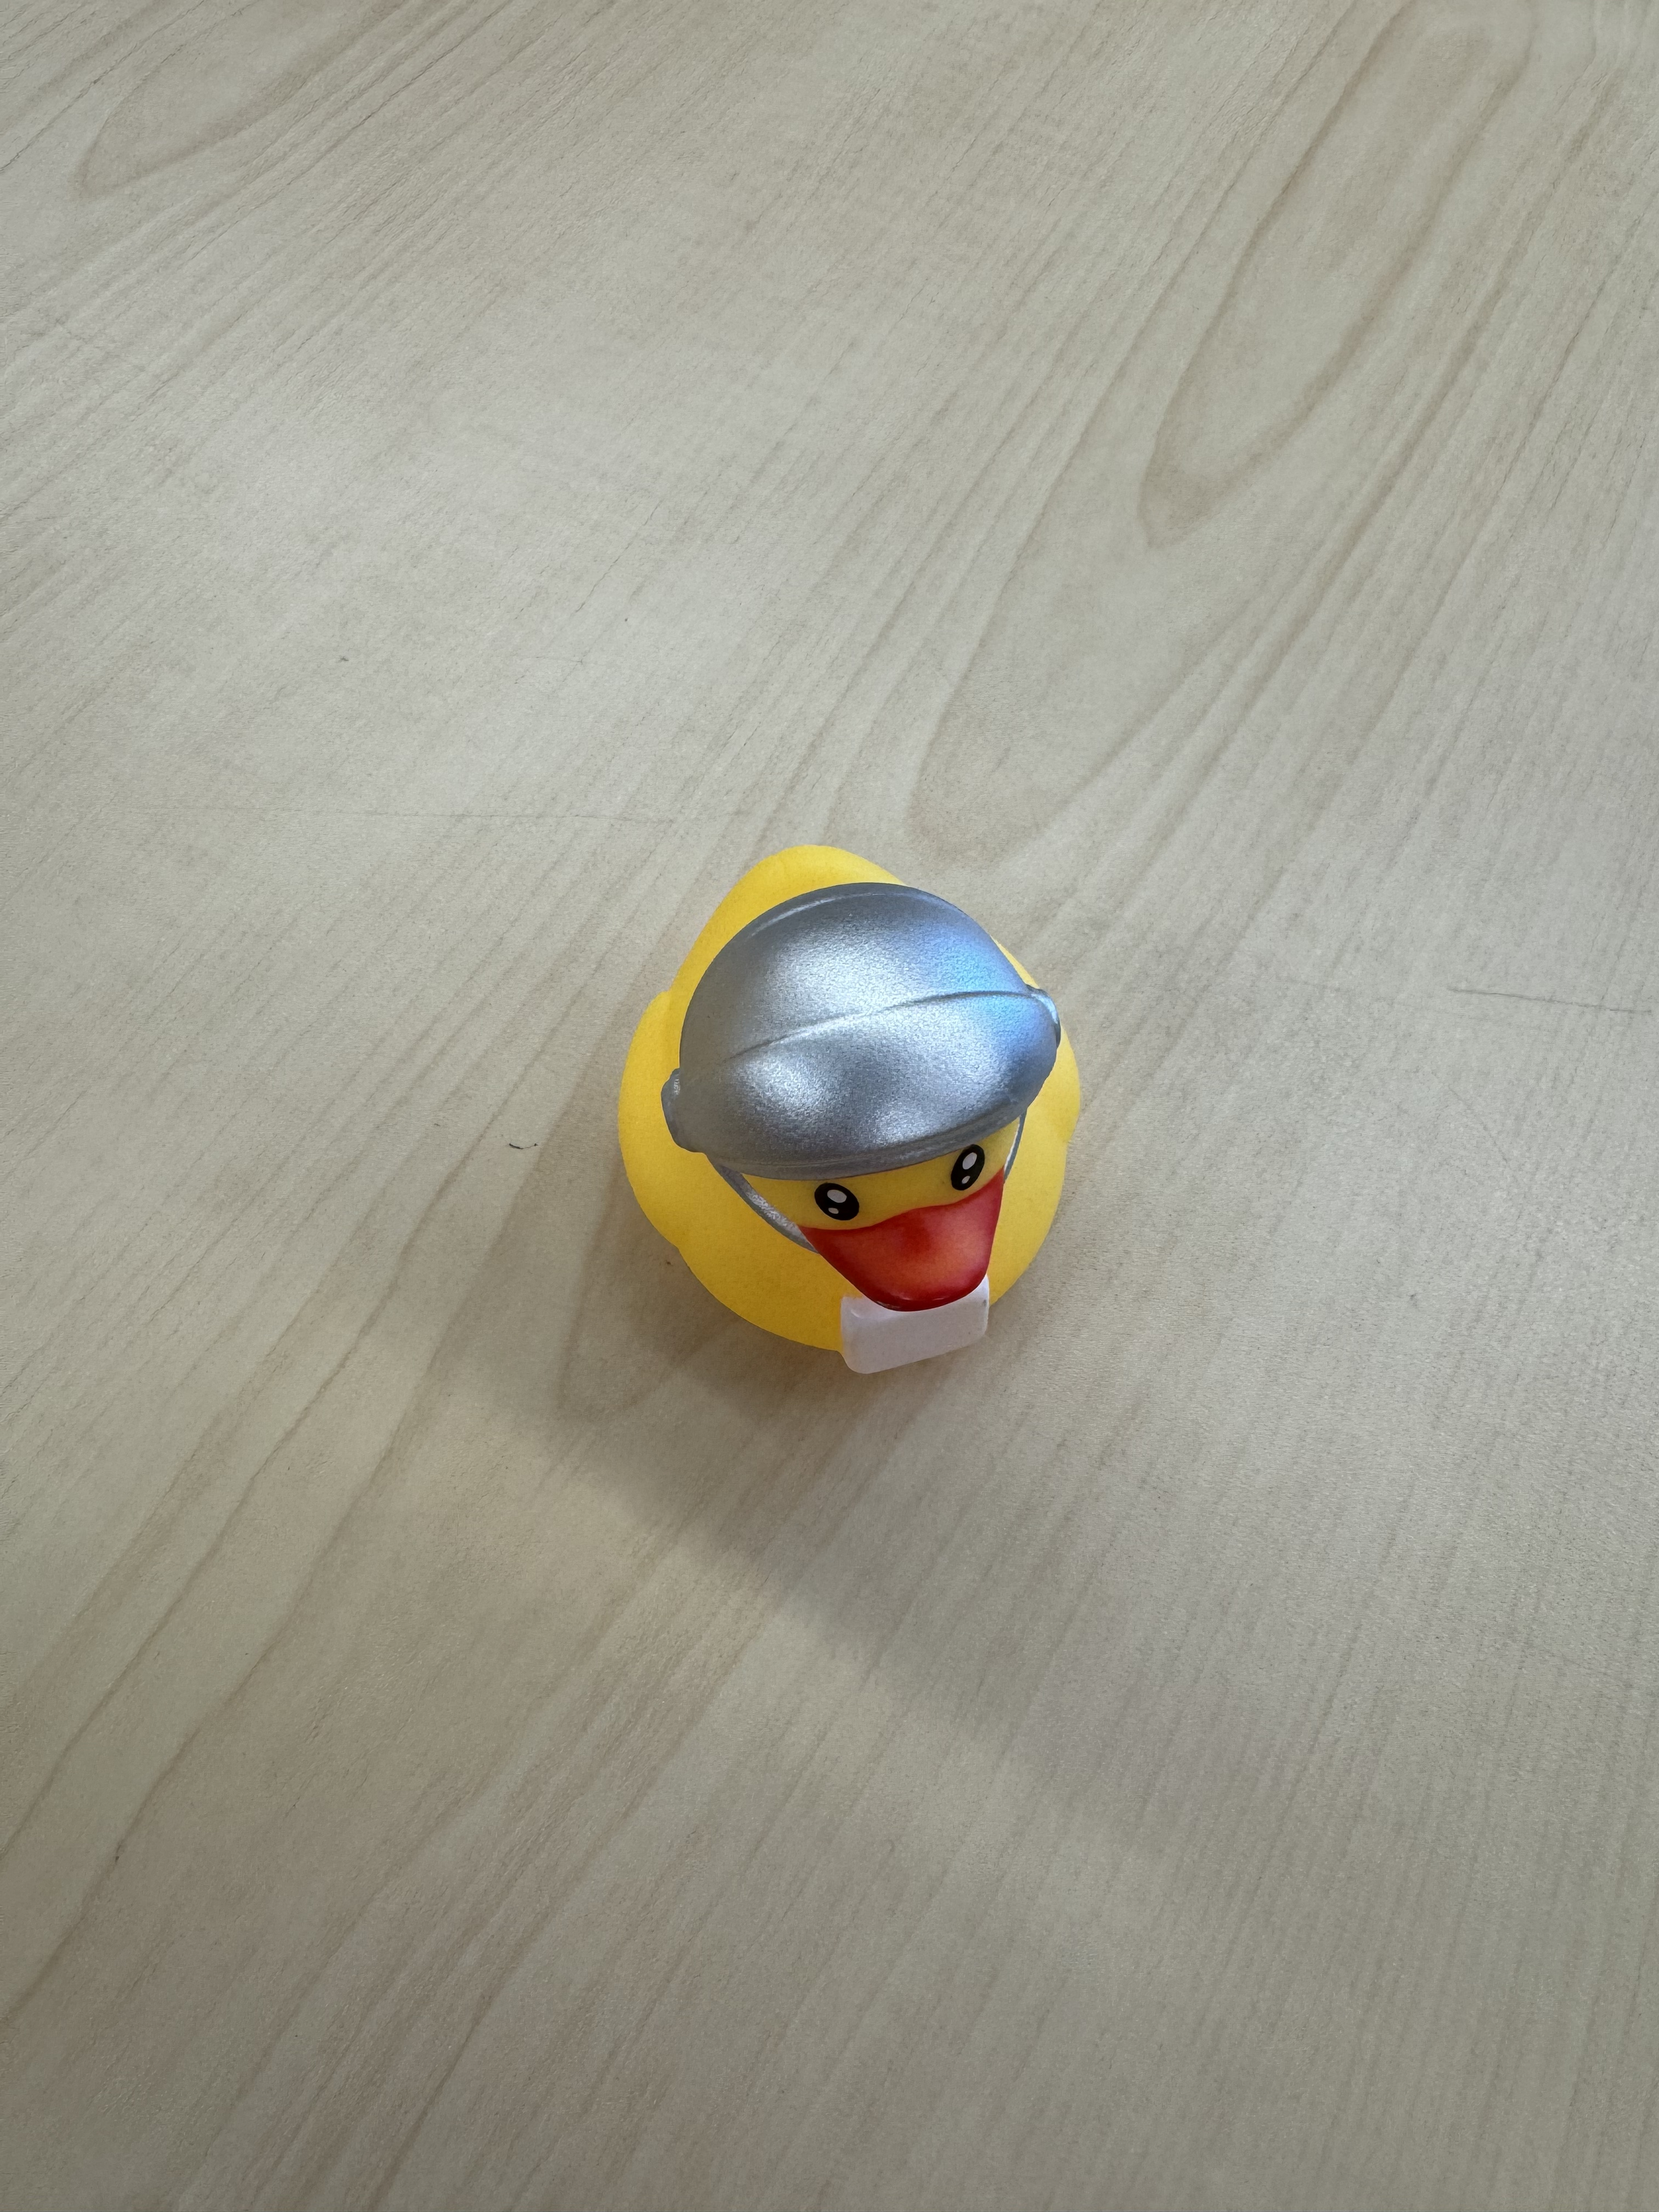duck_specialty: (615, 831, 1091, 1385)
